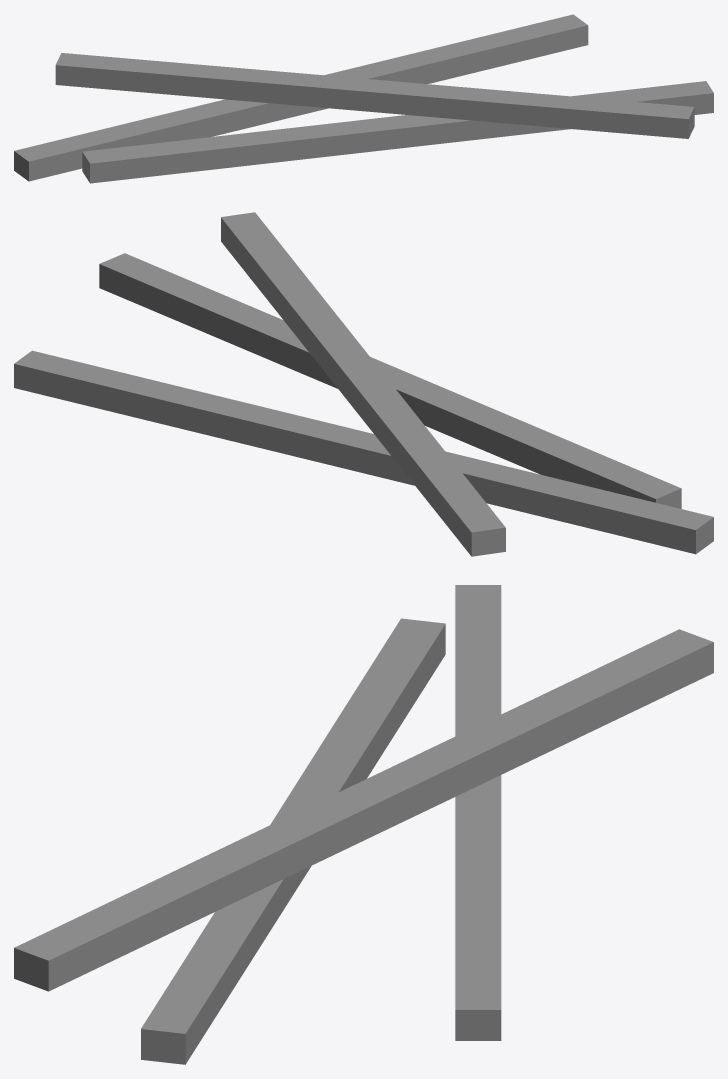
File: Iron_beams.fbx
3 renders of one model, top to bottom at view 1: azimuth 30°, elevation 25°; view 2: azimuth 150°, elevation 25°; view 3: azimuth 270°, elevation 25°, orthographic. The views are drawn at different scales.
Visible parts, largest first — view 1: Iron_beams; view 2: Iron_beams; view 3: Iron_beams.
Boxes of the visible parts, <box> form: Iron_beams: <box>14,14,713,183</box>; Iron_beams: <box>14,212,713,556</box>; Iron_beams: <box>14,585,713,1064</box>.
Bounding box in the file's own units: 516 × 340 × 33.11.
